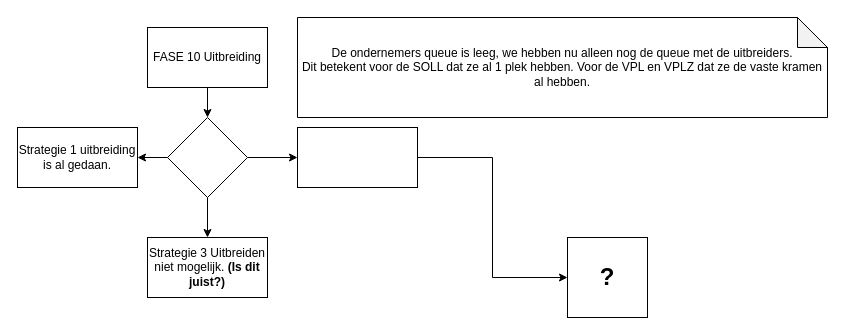
Some shapes in this 845 by 335 pixel diagram are drawn without their labels. The centre of each missing label's shape, as x and y in pixels:
"strategie" belongs at (207,157).
"Strategie 2 uitbreiden" belongs at (357,157).
